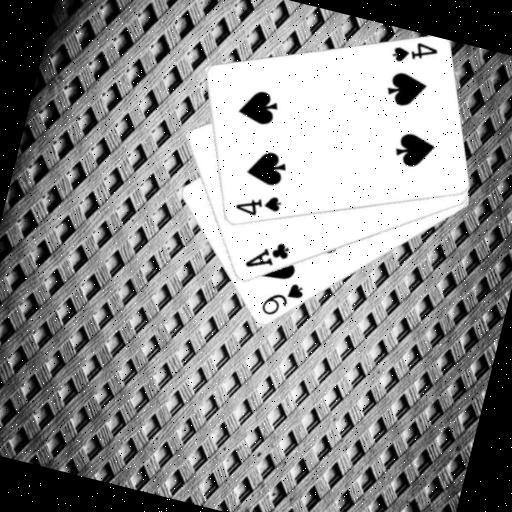4S: (387, 33, 441, 73), (230, 185, 284, 224)
9S: (257, 273, 308, 324)
AC: (241, 232, 294, 279)
